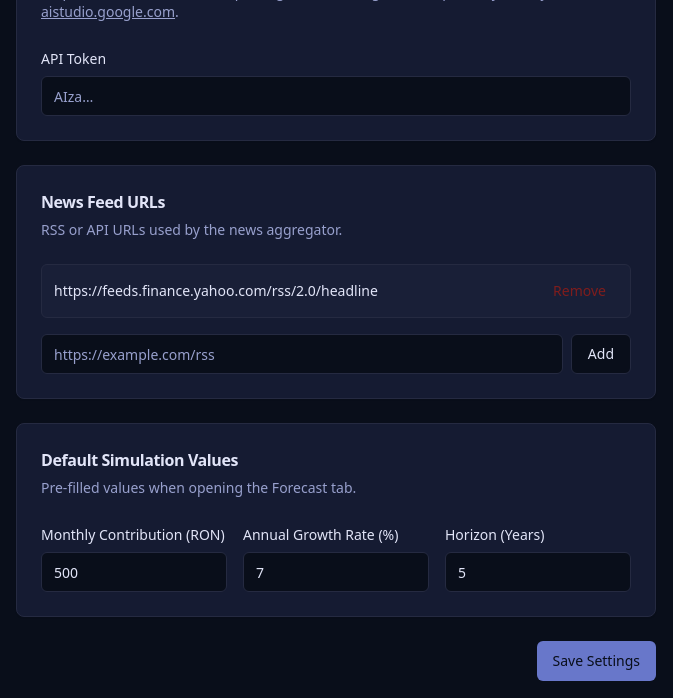
Test: SettingsPage › shows an error message after a failed PUT
(page scrolled)
Click the button "Save Settings": (596, 661) x1=536 y1=641 x2=656 y2=681
(page scrolled)
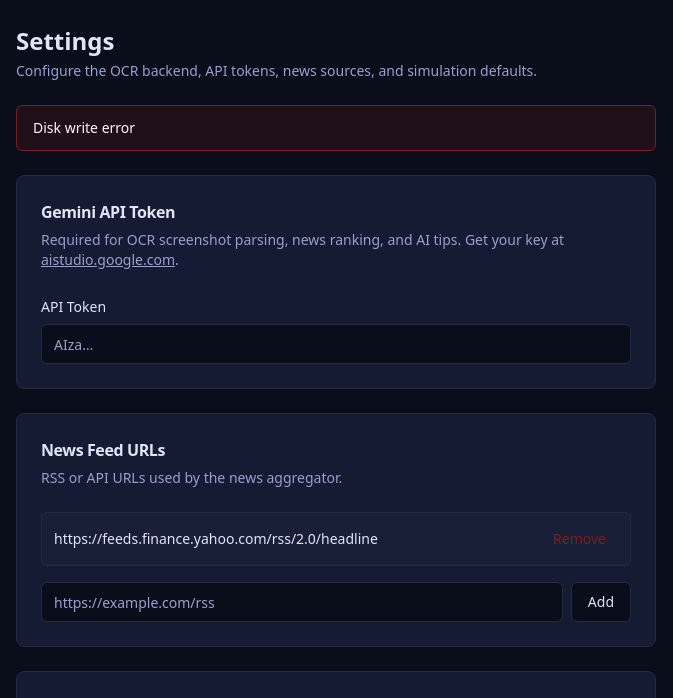
Result: the message "Disk write error" is shown at x1=16 y1=105 x2=656 y2=151
Result: the message reads "Disk write error" at x1=33 y1=118 x2=135 y2=137
